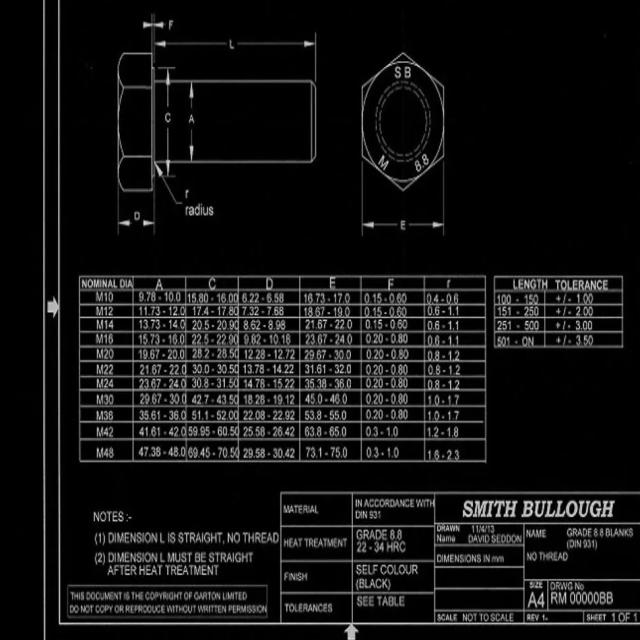marking_line: (155, 39, 318, 82), (361, 192, 446, 237), (159, 64, 176, 179), (117, 195, 157, 233), (155, 164, 185, 207), (426, 174, 446, 238), (142, 12, 166, 51), (360, 167, 372, 244), (186, 82, 195, 161)
